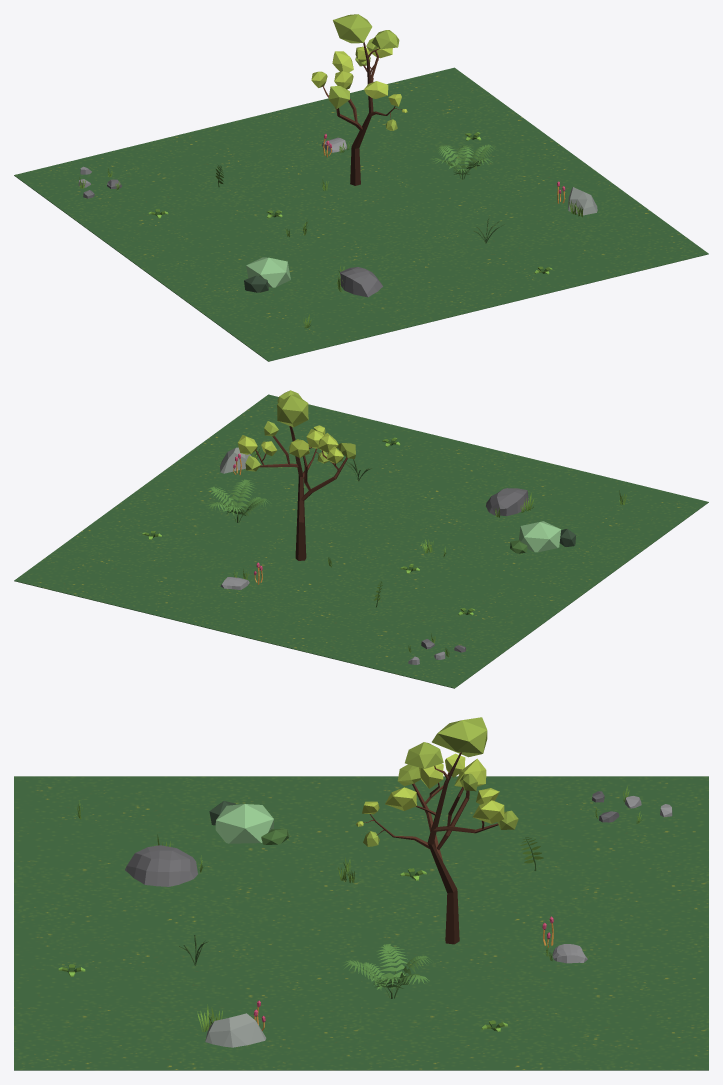
3 renders of one model, top to bottom at view 1: azimuth 30°, elevation 25°; view 2: azimuth 150°, elevation 25°; view 3: azimuth 270°, elevation 25°, orthographic. The views are drawn at different scales.
Parts seen in each view (by area): view 1: EP_09; view 2: EP_09; view 3: EP_09.
Boxes of the visible parts, left/top/right/bottom form: EP_09: left=14, top=14, right=708, bottom=361; EP_09: left=14, top=390, right=708, bottom=688; EP_09: left=14, top=717, right=708, bottom=1070.
Size of what is drawn, in the model's own units: 16 by 5.95 by 16.
1 material, 1 textured.
